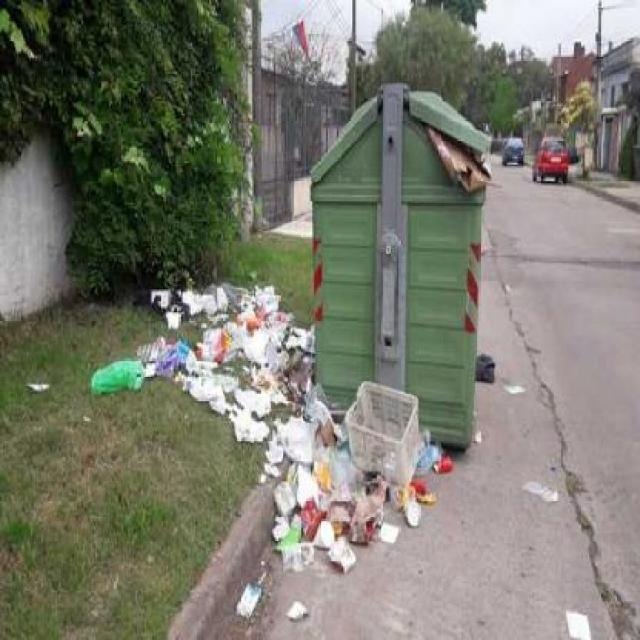garbage: (83, 248, 310, 507), (266, 379, 460, 596), (426, 129, 520, 216), (525, 592, 639, 638), (517, 468, 566, 516), (20, 369, 58, 424), (474, 336, 496, 397)
